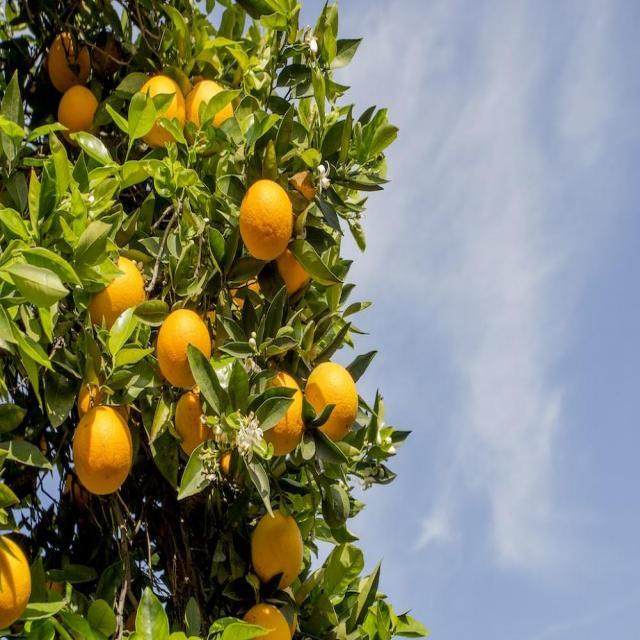Jeruk Sudah Matang: (70, 405, 134, 494), (154, 308, 212, 390), (239, 179, 294, 262), (86, 252, 144, 330), (246, 373, 303, 450), (253, 509, 304, 588), (308, 366, 360, 436), (0, 540, 31, 634), (143, 83, 182, 144), (53, 28, 90, 86), (238, 605, 294, 640), (188, 82, 228, 130), (178, 396, 210, 454), (62, 85, 97, 134)
